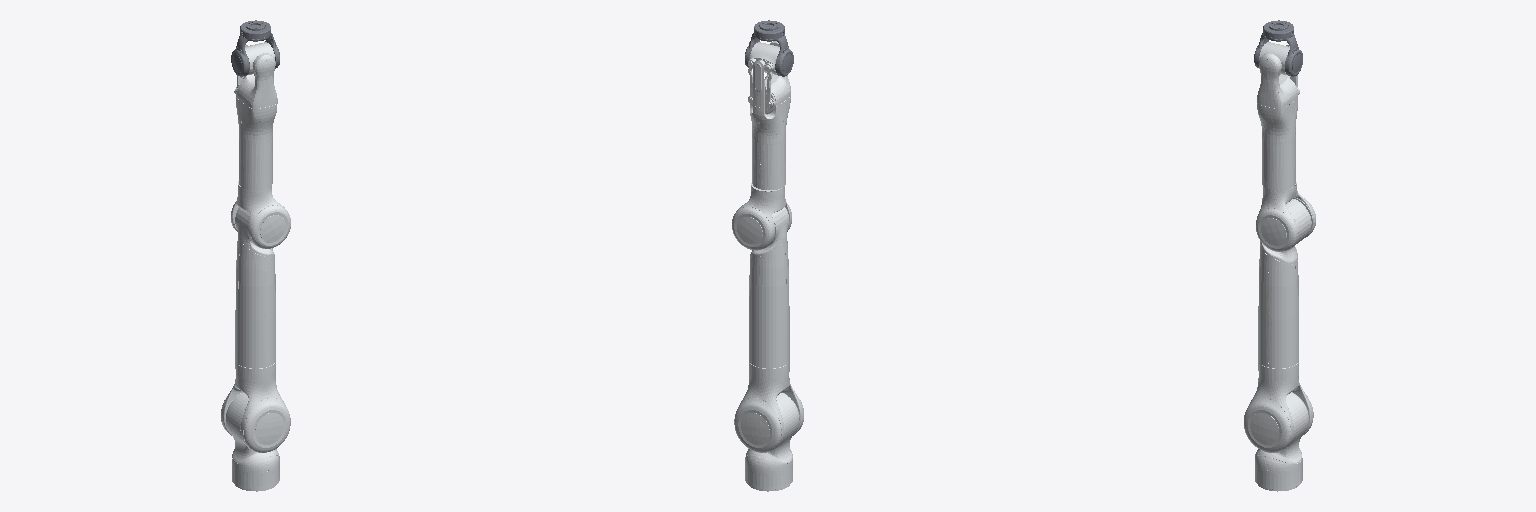
robot.urdf — Marvin M20S-L-CCS-1400-V1.0-Simple Model:
<?xml version="1.0" encoding="utf-8"?>
<!-- This URDF was automatically created by SolidWorks to URDF Exporter! Originally created by Stephen Brawner (brawner@gmail.com) 
     Commit Version: 1.6.0-4-g7f85cfe  Build Version: 1.6.7995.38578
     For more information, please see http://wiki.ros.org/sw_urdf_exporter -->
<robot
  name="Marvin M20S-L-CCS-1400-V1.0-Simple Model">
  <link
    name="left base_link">
    <inertial>
      <origin
        xyz="-6.7E-05 0.00028 0.065921"
        rpy="0 0 0" />
      <mass
        value="5.693" />
      <inertia
        ixx="0.038278028"
        ixy="2.146E-06"
        ixz="-3.6761E-05"
        iyy="0.03845133"
        iyz="5.4951E-05"
        izz="0.015149706" />
    </inertial>
    <visual>
      <origin
        xyz="0 0 0"
        rpy="0 0 0" />
      <geometry>
        <mesh
          filename="package://Marvin M20S-L-CCS-1400-V1.0-Simple Model/meshes/left base_link.STL" />
      </geometry>
      <material
        name="">
        <color
          rgba="0.5451 0.56471 0.60392 1" />
      </material>
    </visual>
    <collision>
      <origin
        xyz="0 0 0"
        rpy="0 0 0" />
      <geometry>
        <mesh
          filename="package://Marvin M20S-L-CCS-1400-V1.0-Simple Model/meshes/left base_link.STL" />
      </geometry>
    </collision>
  </link>
  <link
    name="left_Link-J1">
    <inertial>
      <origin
        xyz="-0.000144 -0.000607 -0.038249"
        rpy="0 0 0" />
      <mass
        value="7.982" />
      <inertia
        ixx="0.066875835"
        ixy="-4.7467E-05"
        ixz="0.000299756"
        iyy="0.071465174"
        iyz="1.7502E-05"
        izz="0.020324947" />
    </inertial>
    <visual>
      <origin
        xyz="0 0 0"
        rpy="0 0 0" />
      <geometry>
        <mesh
          filename="package://Marvin M20S-L-CCS-1400-V1.0-Simple Model/meshes/left_Link-J1.STL" />
      </geometry>
      <material
        name="">
        <color
          rgba="0.89804 0.91765 0.92941 1" />
      </material>
    </visual>
    <collision>
      <origin
        xyz="0 0 0"
        rpy="0 0 0" />
      <geometry>
        <mesh
          filename="package://Marvin M20S-L-CCS-1400-V1.0-Simple Model/meshes/left_Link-J1.STL" />
      </geometry>
    </collision>
  </link>
  <joint
    name="left Joint-J1"
    type="revolute">
    <origin
      xyz="0 0 0.305"
      rpy="0 0 0" />
    <parent
      link="left base_link" />
    <child
      link="left_Link-J1" />
    <axis
      xyz="0 0 1" />
    <limit
      lower="-2.9671"
      upper="2.9671"
      effort="490"
      velocity="2.0944" />
  </joint>
  <link
    name="left_Link-J2">
    <inertial>
      <origin
        xyz="1.5E-05 0.111799 0.008392"
        rpy="0 0 0" />
      <mass
        value="5.754" />
      <inertia
        ixx="0.13599374"
        ixy="-9.143E-06"
        ixz="-3.777E-06"
        iyy="0.020189564"
        iyz="-0.000117766"
        izz="0.131388273" />
    </inertial>
    <visual>
      <origin
        xyz="0 0 0"
        rpy="0 0 0" />
      <geometry>
        <mesh
          filename="package://Marvin M20S-L-CCS-1400-V1.0-Simple Model/meshes/left_Link-J2.STL" />
      </geometry>
      <material
        name="">
        <color
          rgba="0.89804 0.91765 0.92941 1" />
      </material>
    </visual>
    <collision>
      <origin
        xyz="0 0 0"
        rpy="0 0 0" />
      <geometry>
        <mesh
          filename="package://Marvin M20S-L-CCS-1400-V1.0-Simple Model/meshes/left_Link-J2.STL" />
      </geometry>
    </collision>
  </link>
  <joint
    name="left Joint-J2"
    type="revolute">
    <origin
      xyz="0 0 0"
      rpy="1.5708 0 0" />
    <parent
      link="left_Link-J1" />
    <child
      link="left_Link-J2" />
    <axis
      xyz="0 0 1" />
    <limit
      lower="-2.0944"
      upper="2.0944"
      effort="490"
      velocity="2.0944" />
  </joint>
  <link
    name="left_Link-J3">
    <inertial>
      <origin
        xyz="0.011591 0.000883 -0.139509"
        rpy="0 0 0" />
      <mass
        value="7.512" />
      <inertia
        ixx="0.380288051"
        ixy="0.000165507"
        ixz="0.000285128"
        iyy="0.383888739"
        iyz="6.01E-05"
        izz="0.017472853" />
    </inertial>
    <visual>
      <origin
        xyz="0 0 0"
        rpy="0 0 0" />
      <geometry>
        <mesh
          filename="package://Marvin M20S-L-CCS-1400-V1.0-Simple Model/meshes/left_Link-J3.STL" />
      </geometry>
      <material
        name="">
        <color
          rgba="0.89804 0.91765 0.92941 1" />
      </material>
    </visual>
    <collision>
      <origin
        xyz="0 0 0"
        rpy="0 0 0" />
      <geometry>
        <mesh
          filename="package://Marvin M20S-L-CCS-1400-V1.0-Simple Model/meshes/left_Link-J3.STL" />
      </geometry>
    </collision>
  </link>
  <joint
    name="left Joint-J3"
    type="revolute">
    <origin
      xyz="0 0.7 0"
      rpy="-1.5708 0 0" />
    <parent
      link="left_Link-J2" />
    <child
      link="left_Link-J3" />
    <axis
      xyz="0 0 1" />
    <limit
      lower="-2.9671"
      upper="2.9671"
      effort="230"
      velocity="3.1416" />
  </joint>
  <link
    name="left_Link-J4">
    <inertial>
      <origin
        xyz="0.011702 -0.069257 0.008652"
        rpy="0 0 0" />
      <mass
        value="3.185" />
      <inertia
        ixx="0.040452545"
        ixy="-0.004995129"
        ixz="-1.6867E-05"
        iyy="0.009920849"
        iyz="4.5404E-05"
        izz="0.038701585" />
    </inertial>
    <visual>
      <origin
        xyz="0 0 0"
        rpy="0 0 0" />
      <geometry>
        <mesh
          filename="package://Marvin M20S-L-CCS-1400-V1.0-Simple Model/meshes/left_Link-J4.STL" />
      </geometry>
      <material
        name="">
        <color
          rgba="0.89804 0.91765 0.92941 1" />
      </material>
    </visual>
    <collision>
      <origin
        xyz="0 0 0"
        rpy="0 0 0" />
      <geometry>
        <mesh
          filename="package://Marvin M20S-L-CCS-1400-V1.0-Simple Model/meshes/left_Link-J4.STL" />
      </geometry>
    </collision>
  </link>
  <joint
    name="left Joint-J4"
    type="revolute">
    <origin
      xyz="0.023 0 0"
      rpy="1.5708 3.1416 0" />
    <parent
      link="left_Link-J3" />
    <child
      link="left_Link-J4" />
    <axis
      xyz="0 0 1" />
    <limit
      lower="-2.5307"
      upper="1.0472"
      effort="230"
      velocity="3.1416" />
  </joint>
  <link
    name="left_Link-J5">
    <inertial>
      <origin
        xyz="-0.00015 0.000315 -0.181012"
        rpy="0 0 0" />
      <mass
        value="4.075" />
      <inertia
        ixx="0.185150176"
        ixy="8.41E-07"
        ixz="0.000224291"
        iyy="0.182847152"
        iyz="-0.001467273"
        izz="0.007963049" />
    </inertial>
    <visual>
      <origin
        xyz="0 0 0"
        rpy="0 0 0" />
      <geometry>
        <mesh
          filename="package://Marvin M20S-L-CCS-1400-V1.0-Simple Model/meshes/left_Link-J5.STL" />
      </geometry>
      <material
        name="">
        <color
          rgba="0.89804 0.91765 0.92941 1" />
      </material>
    </visual>
    <collision>
      <origin
        xyz="0 0 0"
        rpy="0 0 0" />
      <geometry>
        <mesh
          filename="package://Marvin M20S-L-CCS-1400-V1.0-Simple Model/meshes/left_Link-J5.STL" />
      </geometry>
    </collision>
  </link>
  <joint
    name="left Joint-J5"
    type="revolute">
    <origin
      xyz="0.023 -0.58 0"
      rpy="1.5708 3.1416 0" />
    <parent
      link="left_Link-J4" />
    <child
      link="left_Link-J5" />
    <axis
      xyz="0 0 1" />
    <limit
      lower="-2.9671"
      upper="2.9671"
      effort="80"
      velocity="3.1416" />
  </joint>
  <link
    name="left_Link-J6">
    <inertial>
      <origin
        xyz="0.003011 -0.000112 0.000871"
        rpy="0 0 0" />
      <mass
        value="1.907" />
      <inertia
        ixx="0.002353502"
        ixy="-1.524E-06"
        ixz="-4.961E-05"
        iyy="0.003154504"
        iyz="4.743E-06"
        izz="0.002451887" />
    </inertial>
    <visual>
      <origin
        xyz="0 0 0"
        rpy="0 0 0" />
      <geometry>
        <mesh
          filename="package://Marvin M20S-L-CCS-1400-V1.0-Simple Model/meshes/left_Link-J6.STL" />
      </geometry>
      <material
        name="">
        <color
          rgba="0.89804 0.91765 0.92941 1" />
      </material>
    </visual>
    <collision>
      <origin
        xyz="0 0 0"
        rpy="0 0 0" />
      <geometry>
        <mesh
          filename="package://Marvin M20S-L-CCS-1400-V1.0-Simple Model/meshes/left_Link-J6.STL" />
      </geometry>
    </collision>
  </link>
  <joint
    name="left Joint-J6"
    type="revolute">
    <origin
      xyz="0 0 0"
      rpy="1.5708 -1.5708 0" />
    <parent
      link="left_Link-J5" />
    <child
      link="left_Link-J6" />
    <axis
      xyz="0 0 1" />
    <limit
      lower="-1.0472"
      upper="1.0472"
      effort="80"
      velocity="3.1416" />
  </joint>
  <link
    name="left_Link-J7">
    <inertial>
      <origin
        xyz="0.048826 -0.009631 -6.4E-05"
        rpy="0 0 0" />
      <mass
        value="0.872" />
      <inertia
        ixx="0.002257712"
        ixy="0.000126211"
        ixz="-1.2094E-05"
        iyy="0.004868486"
        iyz="-2.748E-06"
        izz="0.006177749" />
    </inertial>
    <visual>
      <origin
        xyz="0 0 0"
        rpy="0 0 0" />
      <geometry>
        <mesh
          filename="package://Marvin M20S-L-CCS-1400-V1.0-Simple Model/meshes/left_Link-J7.STL" />
      </geometry>
      <material
        name="">
        <color
          rgba="0.5451 0.56471 0.60392 1" />
      </material>
    </visual>
    <collision>
      <origin
        xyz="0 0 0"
        rpy="0 0 0" />
      <geometry>
        <mesh
          filename="package://Marvin M20S-L-CCS-1400-V1.0-Simple Model/meshes/left_Link-J7.STL" />
      </geometry>
    </collision>
  </link>
  <joint
    name="left Joint-J7"
    type="revolute">
    <origin
      xyz="0 0 0"
      rpy="1.5708 -1.5708 0" />
    <parent
      link="left_Link-J6" />
    <child
      link="left_Link-J7" />
    <axis
      xyz="0 0 1" />
    <limit
      lower="-1.5708"
      upper="1.5708"
      effort="80"
      velocity="3.1416" />
  </joint>
</robot>

--- Render facts (derived) ---
Views: 3 orthographic renders of the robot side by side, from view 1: azimuth 30°, elevation 25°; view 2: azimuth 150°, elevation 25°; view 3: azimuth 330°, elevation 25°.
Robot: Marvin M20S-L-CCS-1400-V1.0-Simple Model — 8 links, 7 joints (7 revolute); root link left base_link; default pose: all joints at 0.
Visible links, largest first — view 1: left_Link-J3, left_Link-J5, left_Link-J2, left_Link-J1, left_Link-J4, left_Link-J7; view 2: left_Link-J3, left_Link-J5, left_Link-J2, left_Link-J1, left_Link-J4, left_Link-J7, left_Link-J6; view 3: left_Link-J3, left_Link-J5, left_Link-J2, left_Link-J1, left_Link-J4, left_Link-J7.
Boxes of the visible links, x1,y1,x2,y2 form: left_Link-J3: (235,207,275,368); left_Link-J5: (236,45,277,189); left_Link-J2: (221,360,290,452); left_Link-J1: (226,393,279,491); left_Link-J4: (231,181,290,248); left_Link-J7: (231,20,279,76); left_Link-J3: (749,207,789,368); left_Link-J5: (750,41,790,189); left_Link-J2: (734,361,803,452); left_Link-J1: (745,393,798,491); left_Link-J4: (732,183,791,250); left_Link-J7: (745,20,793,76); left_Link-J6: (748,42,779,113); left_Link-J3: (1258,199,1311,368); left_Link-J5: (1257,45,1297,189); left_Link-J2: (1244,361,1313,452); left_Link-J1: (1255,392,1308,491); left_Link-J4: (1256,182,1315,251); left_Link-J7: (1254,20,1302,76).
Size in the robot's own frame: 0.1869 by 0.1859 by 1.62 metres.
7 mesh visuals loaded from 8 distinct referenced files (7 binary STL); not drawn: 1 (reference not matched to a file when rendering).
